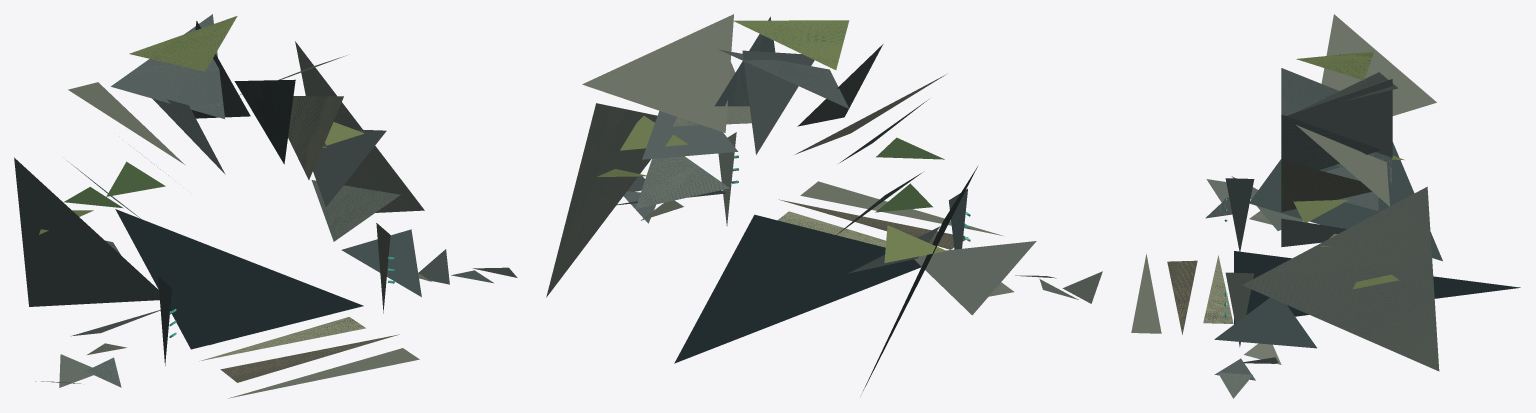
The model's file is BlackfangCave_LOD2.fbx.
The picture shows the model from 3 angles, left to right: view 1: azimuth 30°, elevation 25°; view 2: azimuth 150°, elevation 25°; view 3: azimuth 270°, elevation 25°; orthographic projection. The views are drawn at different scales.
Visible parts, largest first — view 1: BlackfangCave_Detail2; view 2: BlackfangCave_Detail2; view 3: BlackfangCave_Detail2.
Part boxes in pixels (left/top/right/bottom): BlackfangCave_Detail2: left=14, top=14, right=517, bottom=398; BlackfangCave_Detail2: left=546, top=14, right=1102, bottom=390; BlackfangCave_Detail2: left=1131, top=14, right=1520, bottom=398.
Bounding box in the file's own units: 1181 × 671 × 944.
Materials: 1 (1 with a texture image).
